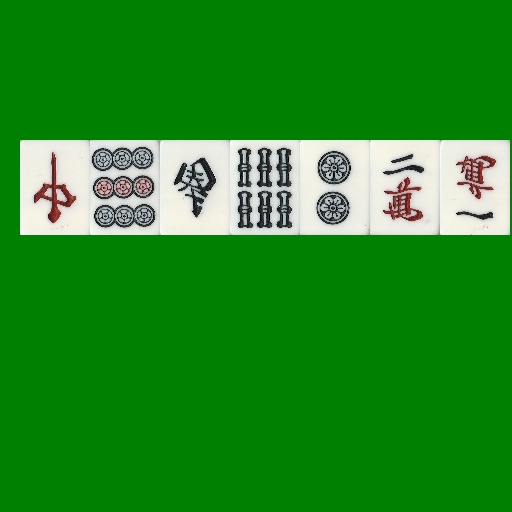1m: (440, 140, 510, 235)
2m: (370, 140, 440, 235)
2p: (300, 140, 370, 235)
6s: (230, 140, 300, 235)
9p: (90, 140, 160, 235)
south: (160, 140, 230, 235)
tyun: (20, 140, 90, 235)
